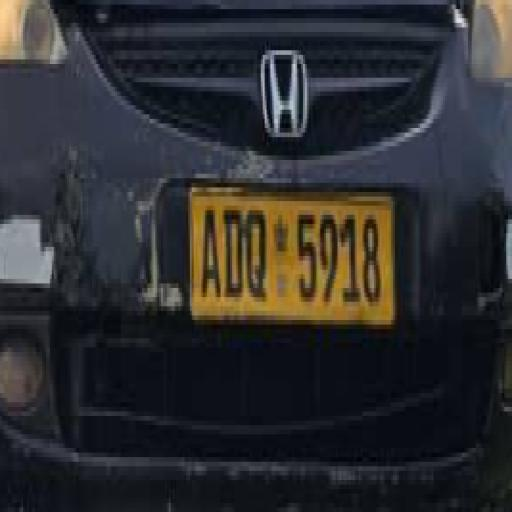number-plates: (195, 177, 389, 337)
